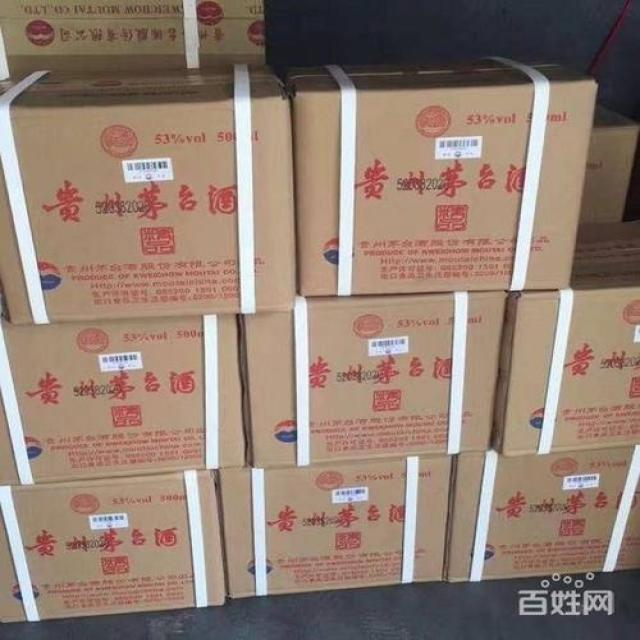Carton: (215, 298, 500, 592), (0, 318, 242, 625), (0, 94, 288, 321), (298, 82, 594, 292), (444, 290, 639, 581)
